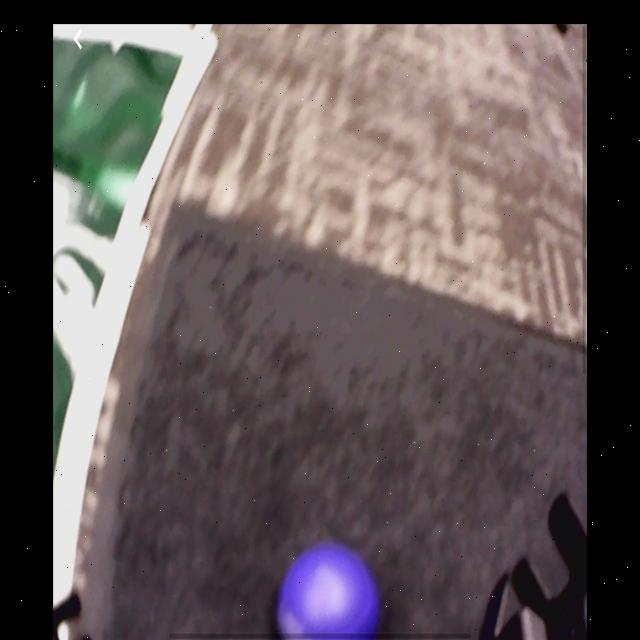ball: (280, 545, 378, 638)
